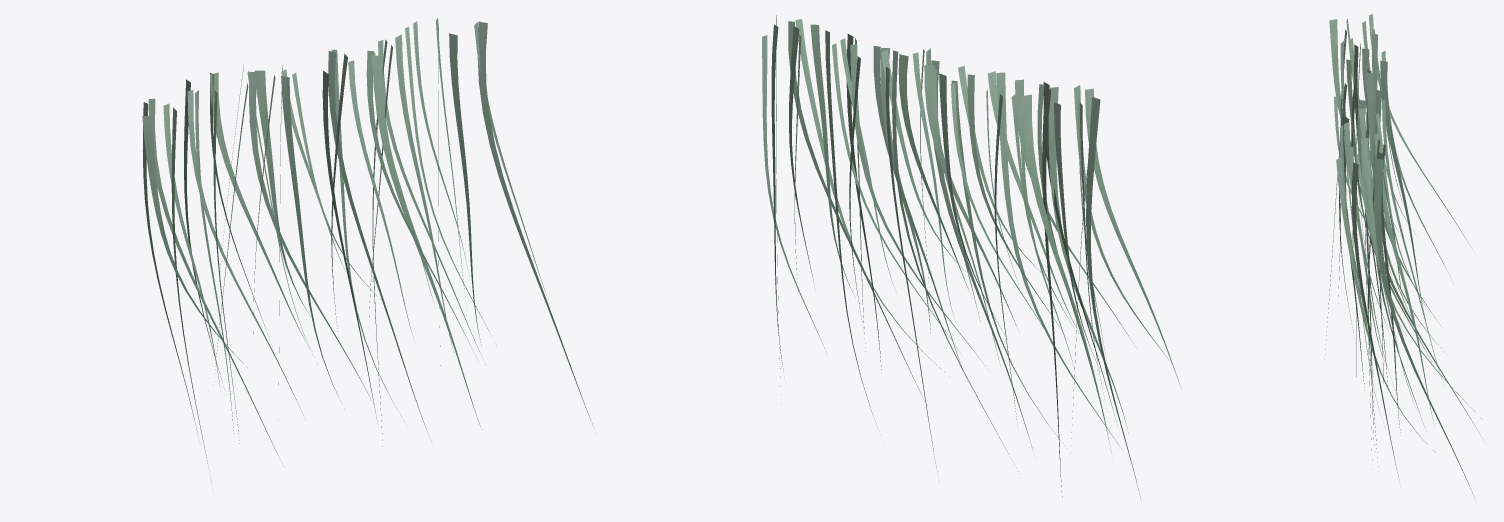
Rendered from mesh-plant-043-hanging-gardens_LOD0.glb.
The picture shows the model from 3 angles, left to right: view 1: azimuth 30°, elevation 25°; view 2: azimuth 150°, elevation 25°; view 3: azimuth 270°, elevation 25°; orthographic projection. The views are drawn at different scales.
Parts seen in each view (by area): view 1: geometry_0; view 2: geometry_0; view 3: geometry_0.
Part boxes in pixels (box(x1,y1,x2,y2)): geometry_0: box(142, 18, 593, 483); geometry_0: box(762, 15, 1181, 498); geometry_0: box(1325, 14, 1482, 502).
Size of the model in its own units: 3.31 by 2.34 by 1.76.
